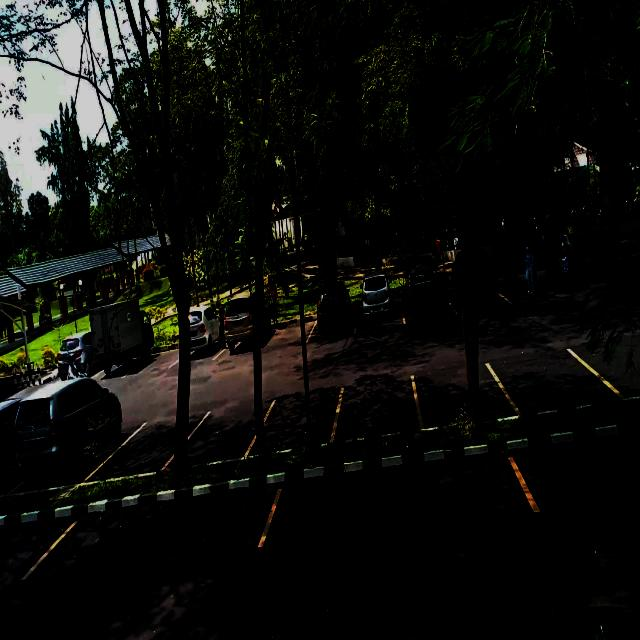empty: (270, 458, 535, 540), (45, 494, 275, 578), (519, 432, 638, 516), (508, 348, 601, 412), (418, 364, 509, 426), (336, 376, 416, 437), (266, 392, 341, 453), (0, 512, 55, 588), (112, 414, 176, 477), (188, 407, 255, 465), (594, 330, 640, 397), (268, 312, 312, 347)
occupied: (13, 393, 121, 485), (402, 275, 450, 322), (356, 286, 404, 330), (314, 294, 358, 339), (0, 416, 15, 499)
